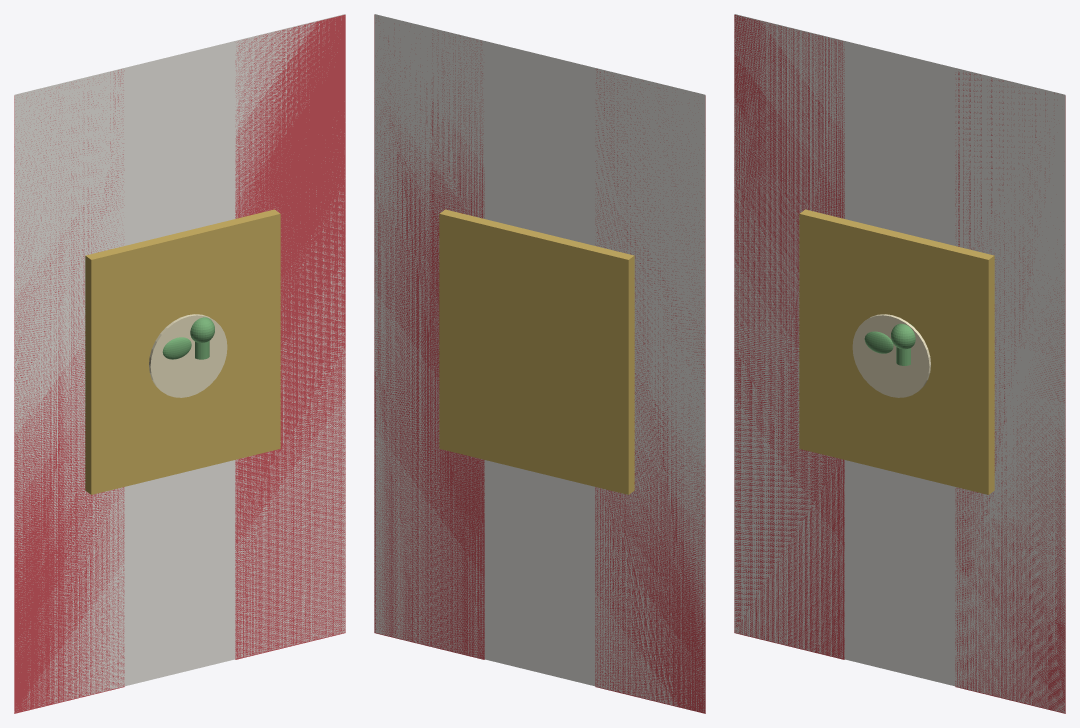
Rendered from WallPicture_Peru.fbx.
3 views of the same model, side by side, from view 1: azimuth 30°, elevation 25°; view 2: azimuth 150°, elevation 25°; view 3: azimuth 330°, elevation 25° (orthographic).
Visible parts, largest first — view 1: WallPicture_Peru; view 2: WallPicture_Peru; view 3: WallPicture_Peru.
Part boxes in pixels (bbox=[...]): WallPicture_Peru: bbox=[14, 14, 345, 713]; WallPicture_Peru: bbox=[374, 14, 705, 713]; WallPicture_Peru: bbox=[734, 14, 1065, 713].
Size of the model in its own units: 56.1 by 100 by 6.25.
